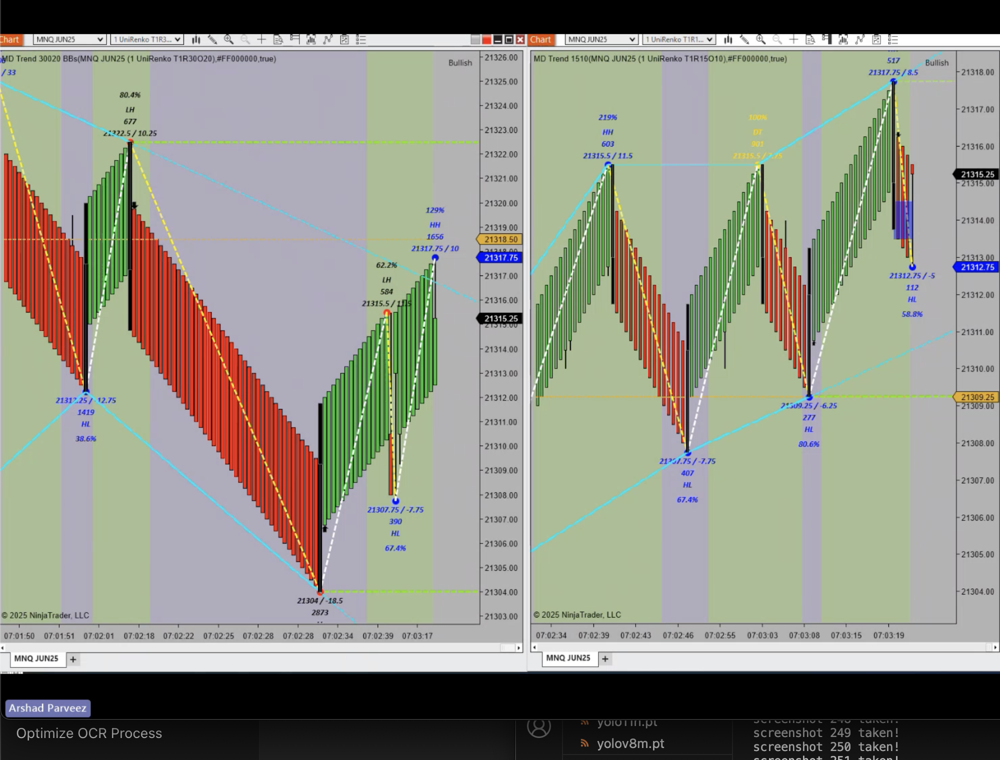HH: (595, 119, 623, 139), (421, 217, 456, 232)
HL: (383, 524, 410, 544), (675, 476, 700, 496), (75, 416, 99, 435), (903, 290, 929, 307), (799, 420, 823, 433)
LH: (373, 272, 400, 291), (120, 100, 141, 119)
